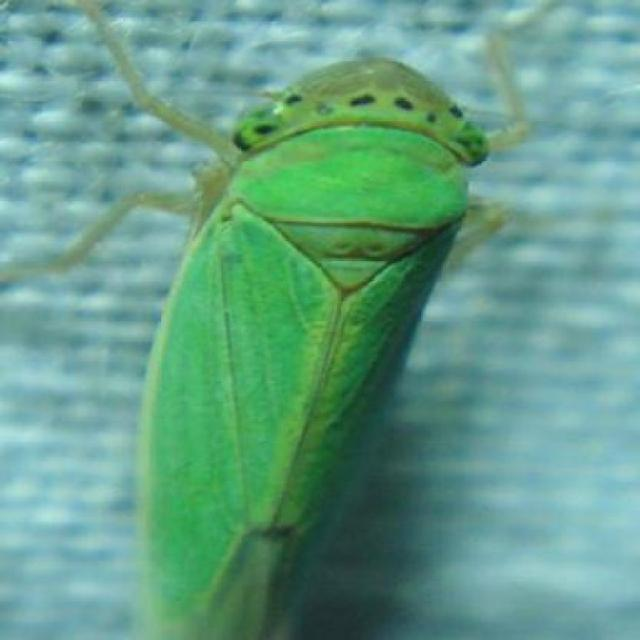green-leafhopper: (140, 34, 494, 640)
